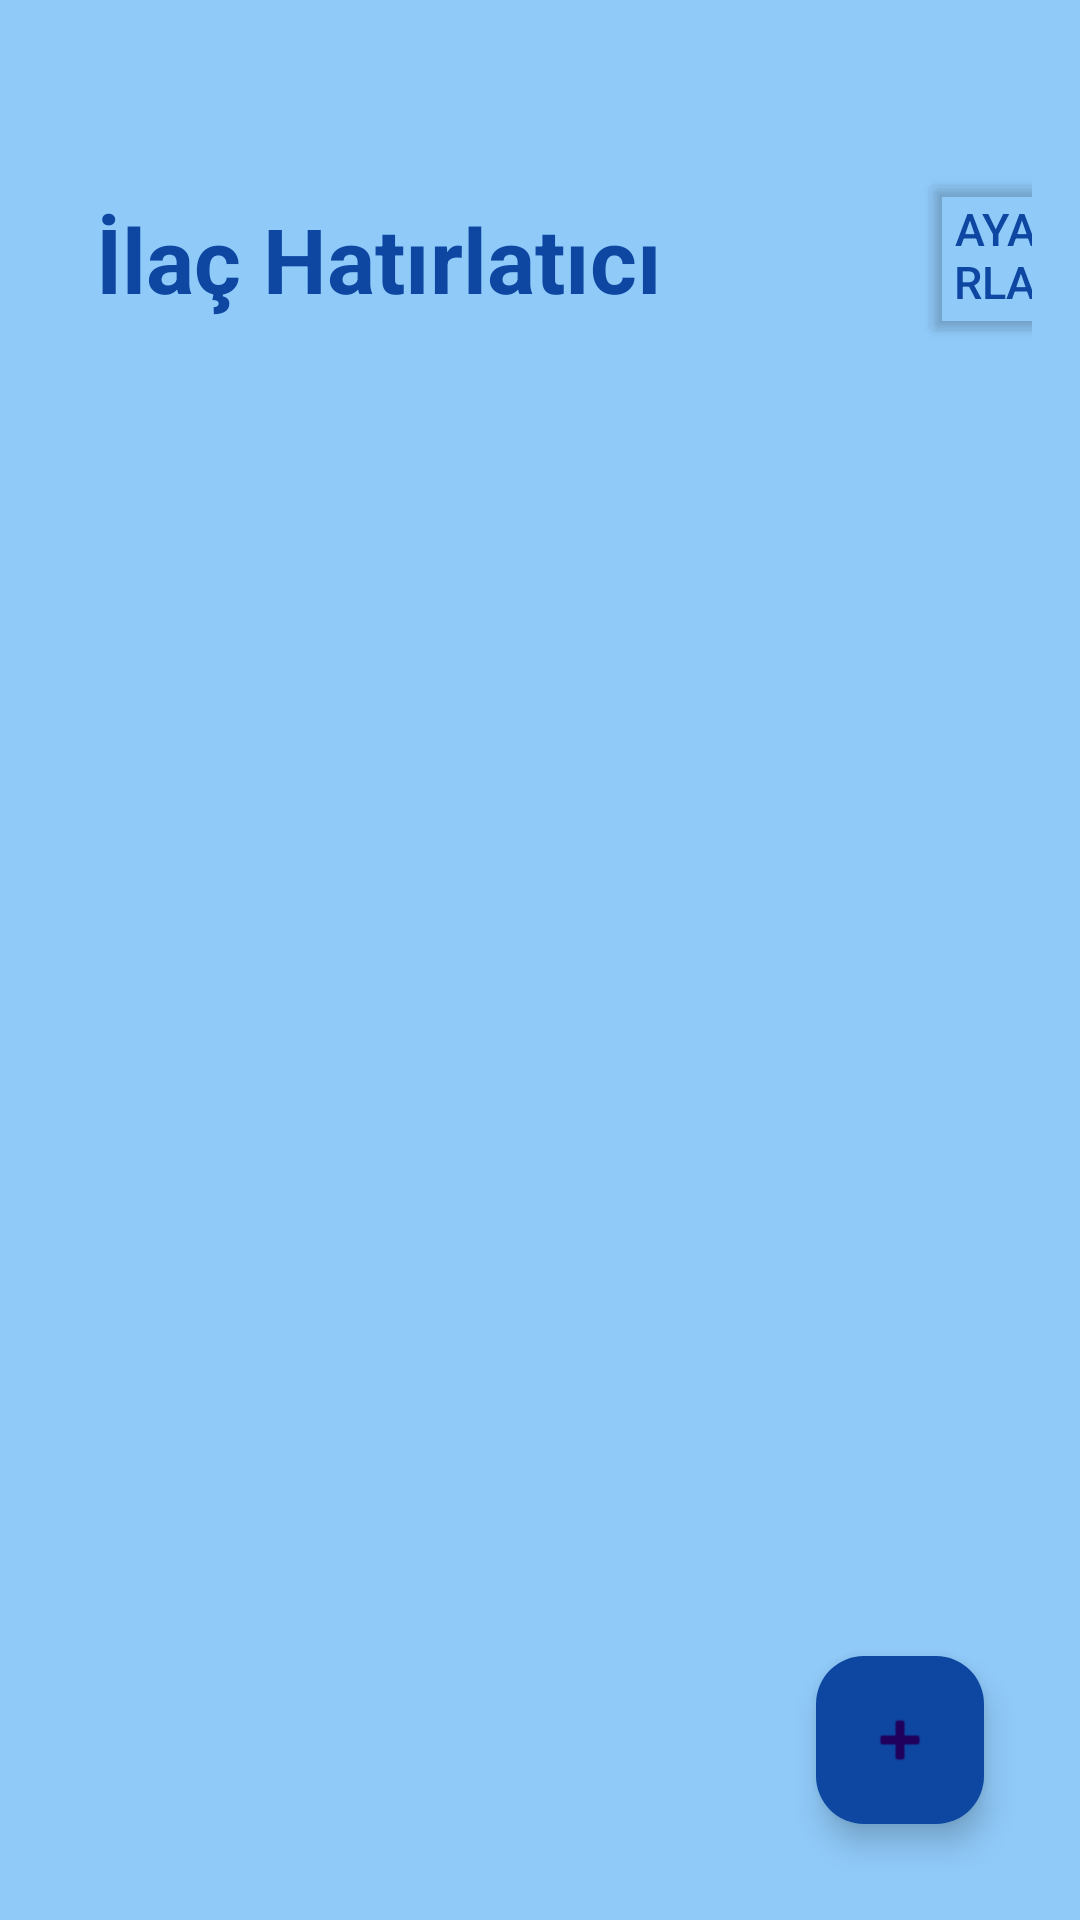

Icons on this 1080 x 1920 Android screen, each with the point to tap as (x,y):
İlaç Ekle: (900,1740)
